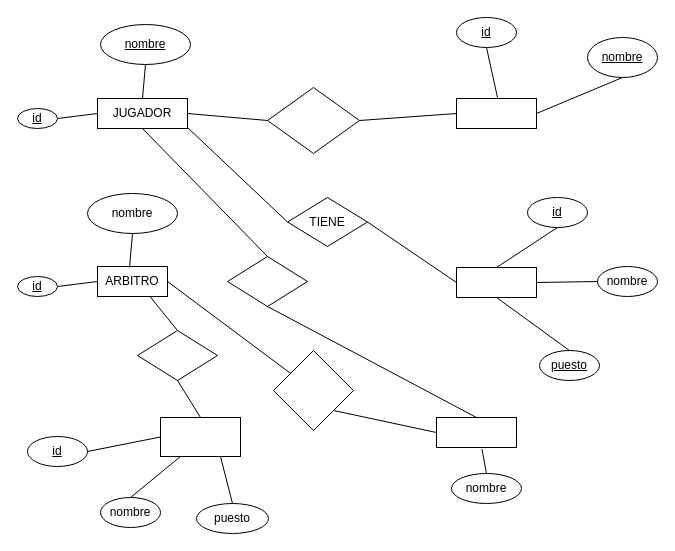
Some shapes in this 675 by 551 pixel diagram are drawn without their labels. The centre of each missing label's shape, as x and y in pixels:
ARBITRA: (313,390)
CONTIENE: (177,355)
EQUIPO: (496,113)
FUNCION: (200,436)
JUEGA: (267,281)
PARTIDO: (476,432)
PERTENECE: (313,120)
POSICION: (496,282)
